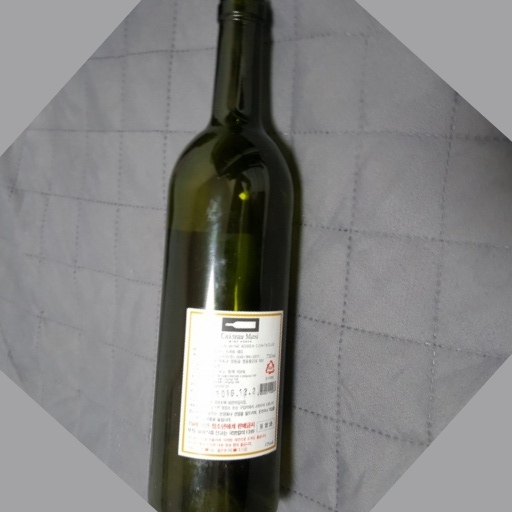Glass_2: (145, 3, 306, 512)
